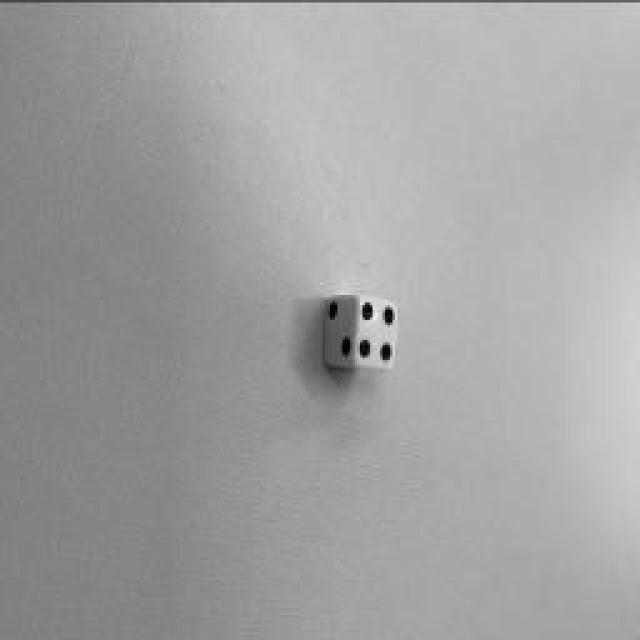dice_4: (355, 295, 397, 367)
